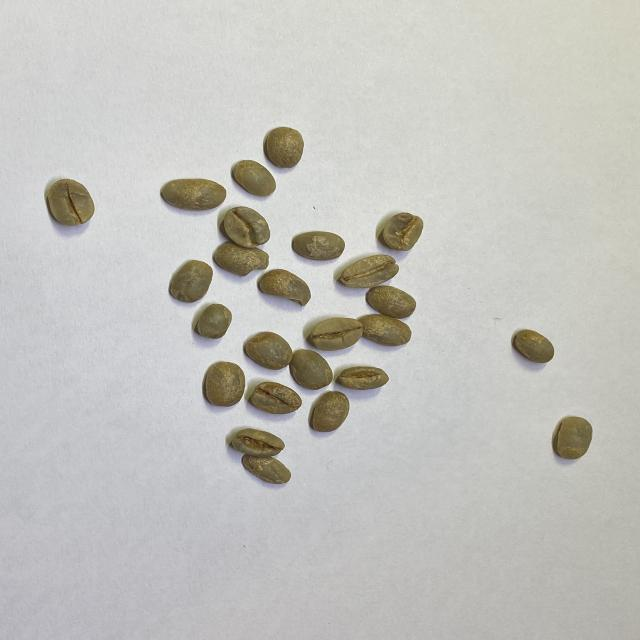bad: (214, 242, 270, 278), (229, 427, 285, 458), (338, 366, 389, 392)
good: (45, 178, 95, 228), (160, 177, 227, 212), (258, 267, 310, 310), (336, 254, 401, 288), (241, 331, 293, 371), (223, 206, 271, 248), (204, 359, 245, 406), (381, 209, 424, 253), (170, 259, 214, 302), (264, 126, 306, 170), (289, 348, 333, 390), (366, 284, 417, 320), (250, 381, 302, 416), (291, 230, 347, 262), (309, 317, 363, 350), (240, 452, 292, 486), (308, 390, 350, 432), (358, 316, 412, 348), (555, 416, 593, 459), (233, 160, 277, 197), (513, 328, 555, 365), (196, 304, 233, 339)
